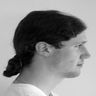ear: (32, 36, 58, 63)
